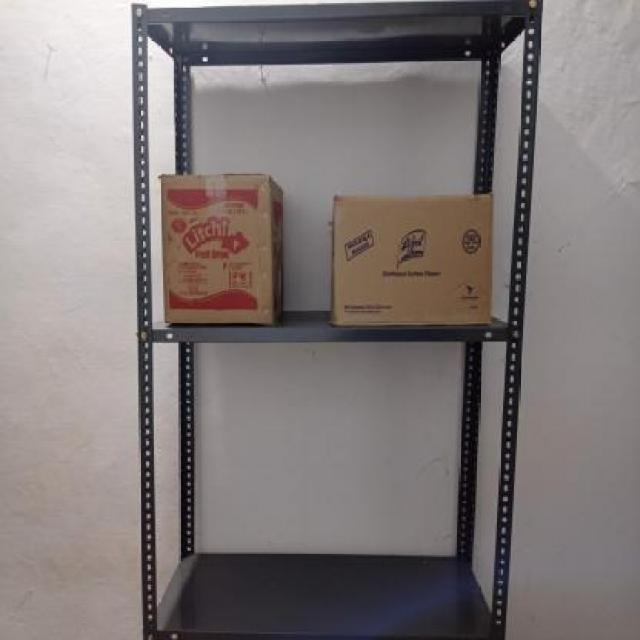box: (332, 195, 492, 325), (160, 171, 271, 321)
